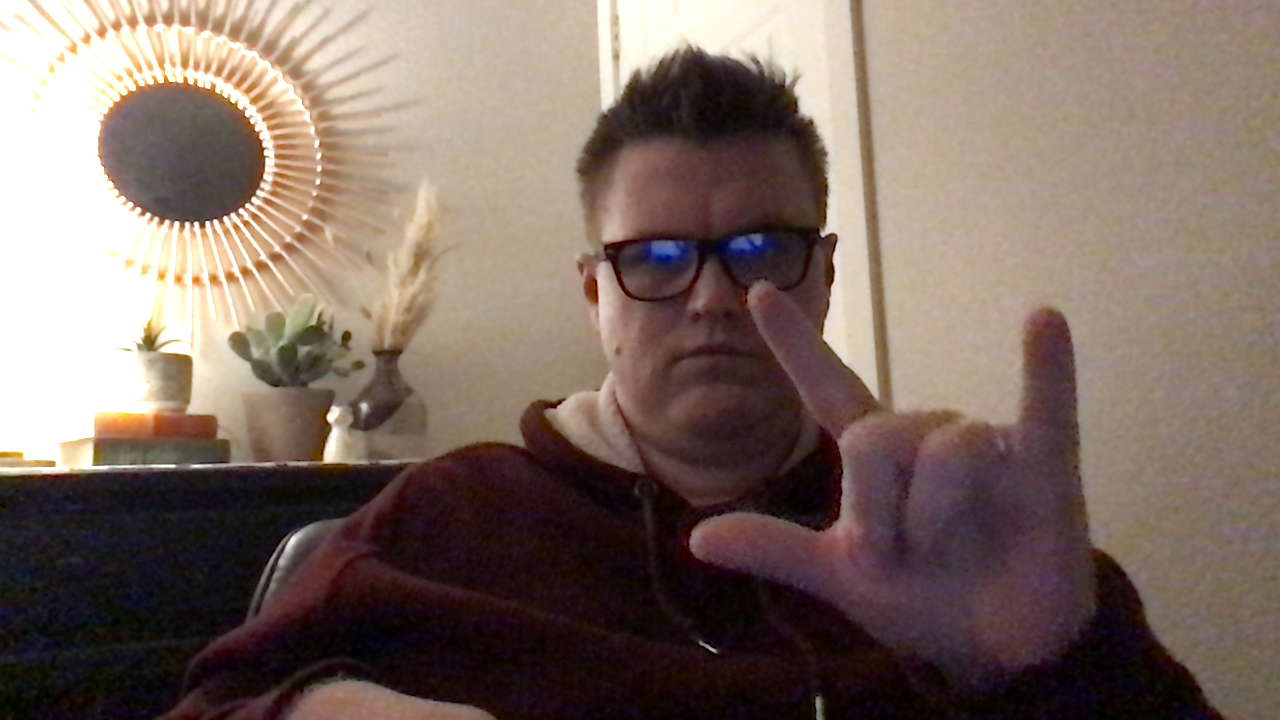iloveyou: (683, 276, 1133, 672)
